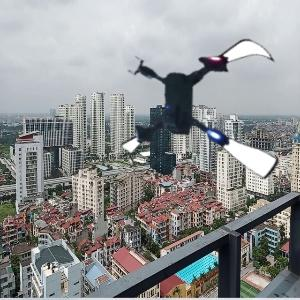drone: (117, 16, 300, 199)
